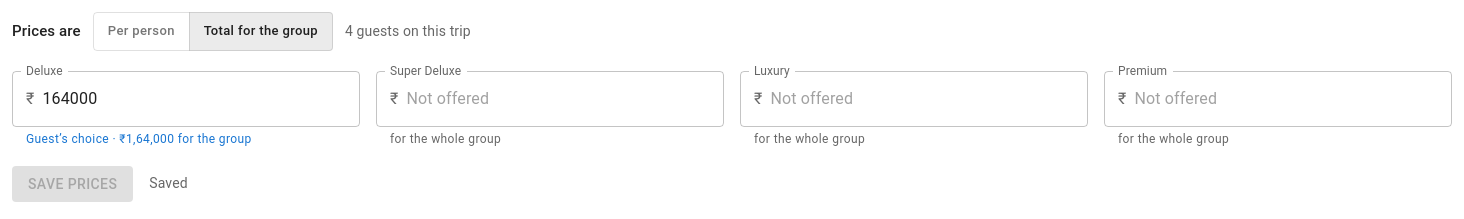
Scenario: the price form › a quote saved as a total opens as a total; switching back is a change to save
The width and height of the screenshot is (1464, 219).
expect the message reads "Saved": met, box [149,175,188,191]
Click the button "Per person": (141, 31) [93,12,190,51]
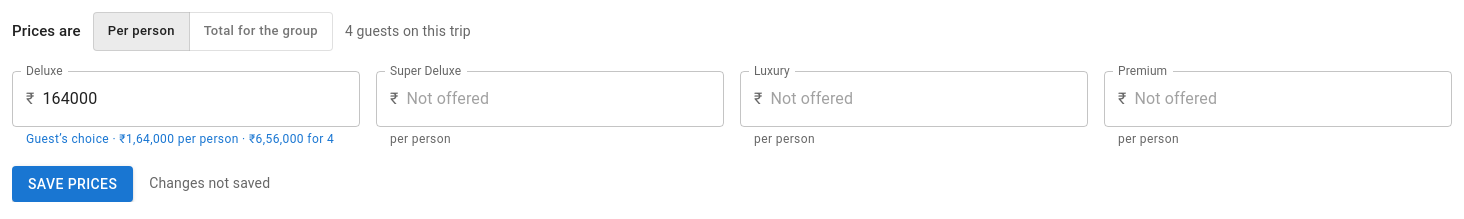
expect the message reads "Changes not saved": met, box [149,175,270,191]
